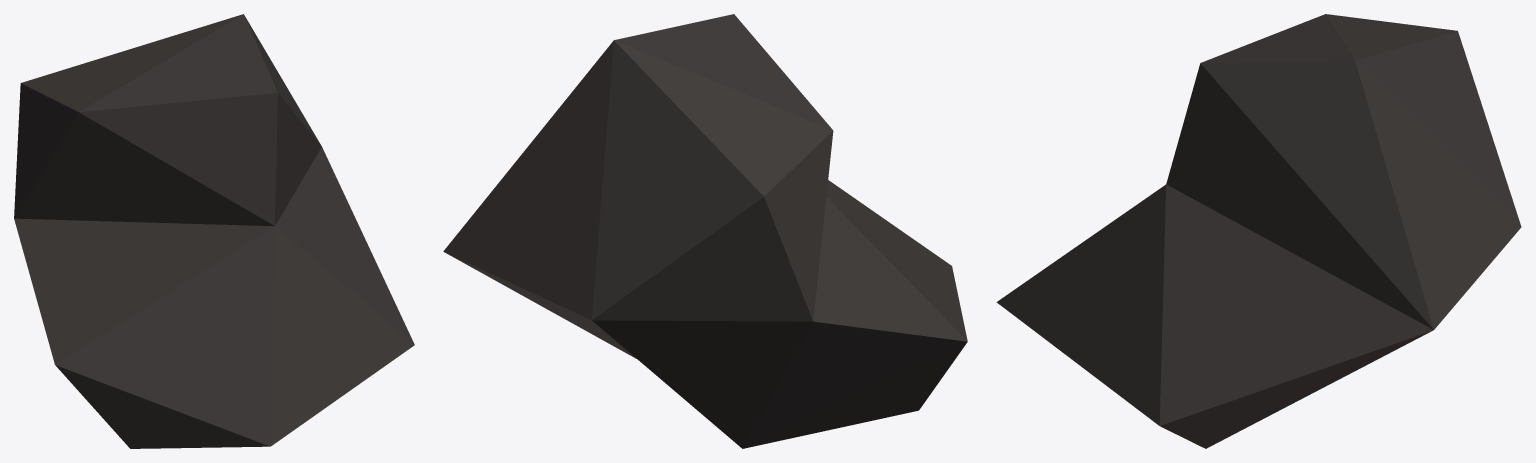
File: Rock_Single_6_LOD_1.fbx
3 views of the same model, side by side, from view 1: azimuth 30°, elevation 25°; view 2: azimuth 150°, elevation 25°; view 3: azimuth 270°, elevation 25° (orthographic). The views are drawn at different scales.
Parts seen in each view (by area): view 1: Group58604; view 2: Group58604; view 3: Group58604.
Boxes of the visible parts, bbox=[...] form: Group58604: bbox=[14, 14, 414, 448]; Group58604: bbox=[443, 14, 967, 448]; Group58604: bbox=[996, 14, 1521, 448].
Bounding box in the file's own units: 1.11 × 1.06 × 1.25.
